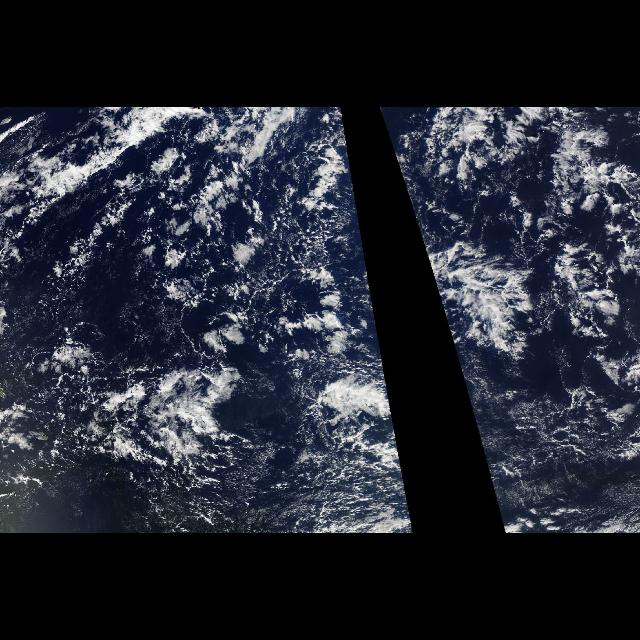Gravel: (180, 136, 350, 352), (466, 386, 622, 476), (303, 386, 405, 476)
